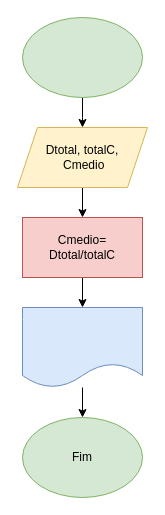
Some shapes in this 165 by 515 pixel diagram are drawn without their labels. Each missing label, with the centre of its shape:
Cmedio: point (82, 347)
Início: point (82, 57)
